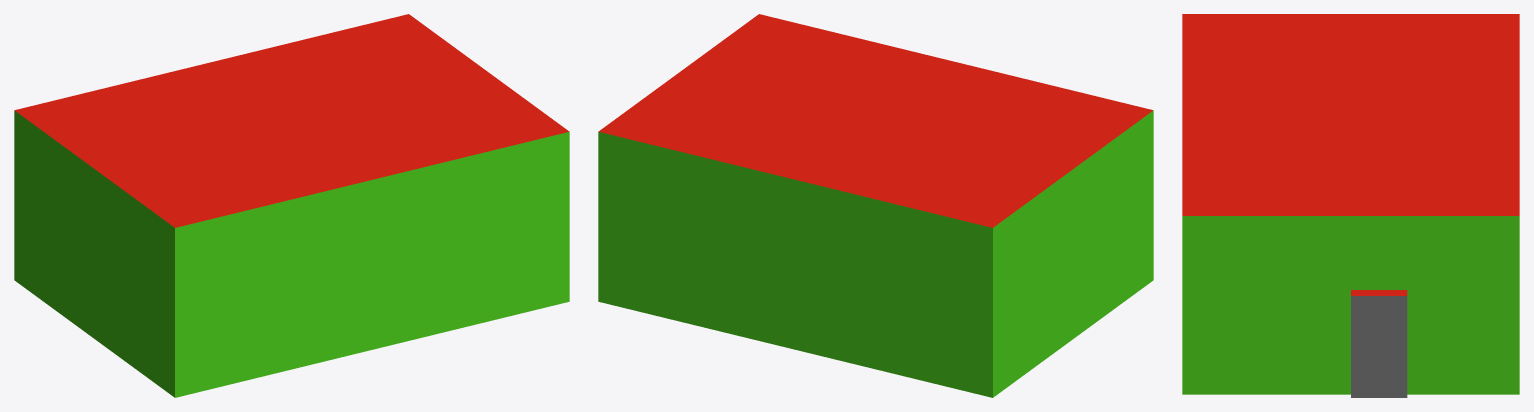
Rendered from Floor2_LivingAreaExerciseMesh.gltf.
The picture shows the model from 3 angles, left to right: view 1: azimuth 30°, elevation 25°; view 2: azimuth 150°, elevation 25°; view 3: azimuth 270°, elevation 25°; orthographic projection. The views are drawn at different scales.
Visible parts, largest first — view 1: Floor2_LivingAreaExerciseMesh2; view 2: Floor2_LivingAreaExerciseMesh2; view 3: Floor2_LivingAreaExerciseMesh2.
Part boxes in pixels (left/top/right/bottom): Floor2_LivingAreaExerciseMesh2: left=14, top=14, right=569, bottom=397; Floor2_LivingAreaExerciseMesh2: left=598, top=14, right=1153, bottom=397; Floor2_LivingAreaExerciseMesh2: left=1182, top=14, right=1519, bottom=397.
Size of the model in its own units: 17.5 by 7 by 12.
